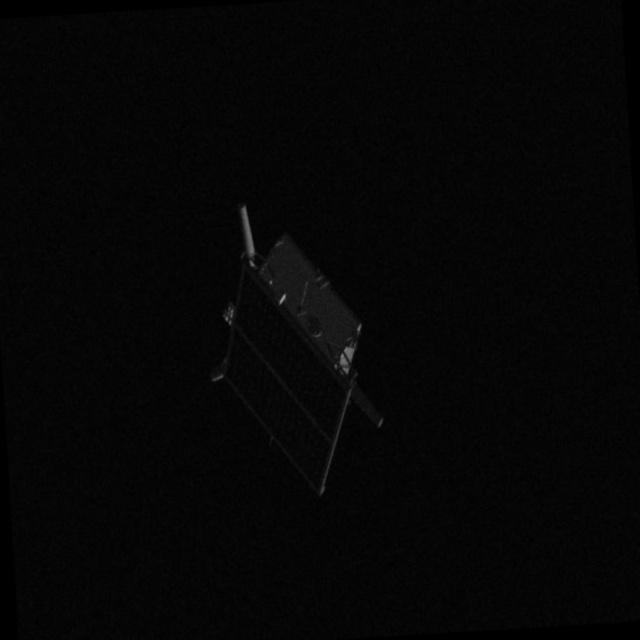medium_debris: (202, 196, 396, 494)
